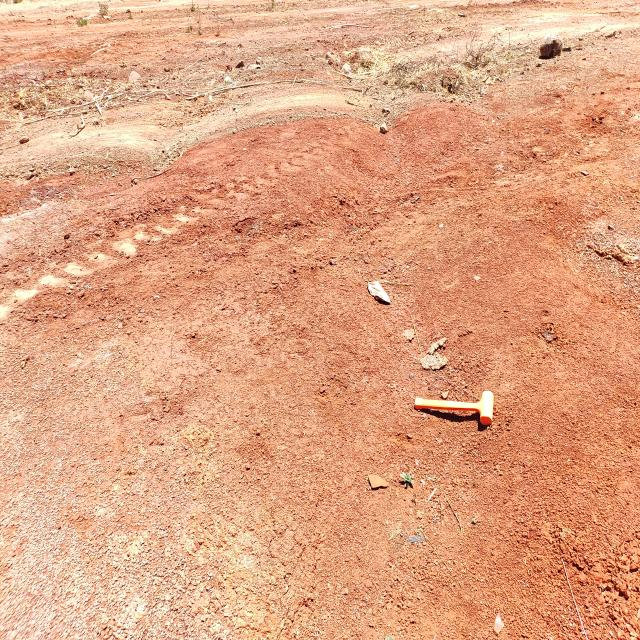Orange_hammer: (413, 389, 494, 427)
